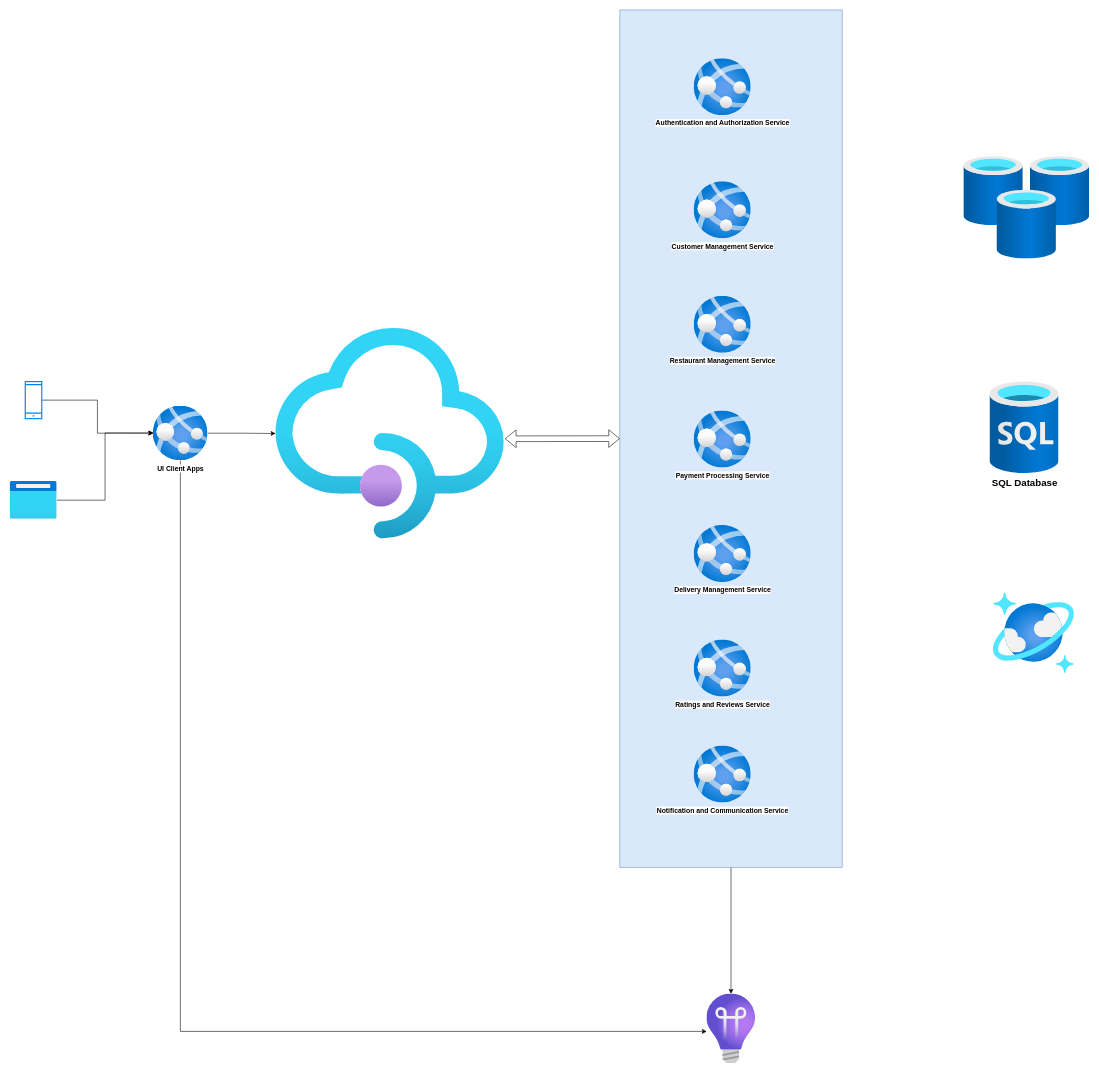
The diagram is 1099 pixels wide and 1088 high, and some of its shapes have lost their labels. Each missing label, with the centre of its shape:
"Azure API Management / API Gateway" belongs at (x=389, y=433).
"Azure Application Insight" belongs at (x=730, y=1028).
"Cosmos DB" belongs at (x=1033, y=632).
"Redis Cache" belongs at (x=1026, y=207).
